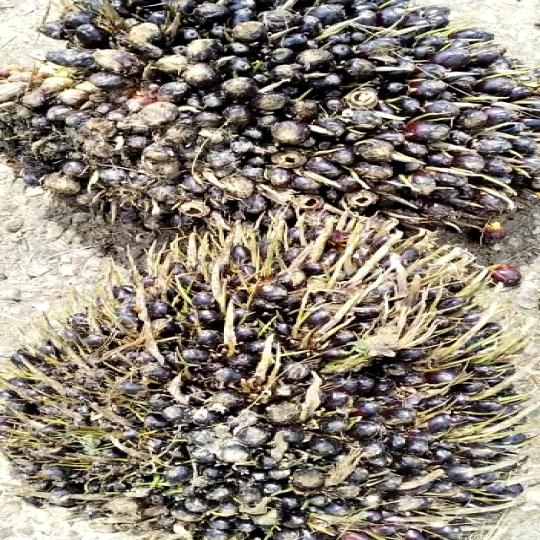mentah: (10, 189, 540, 540), (0, 0, 540, 265)
